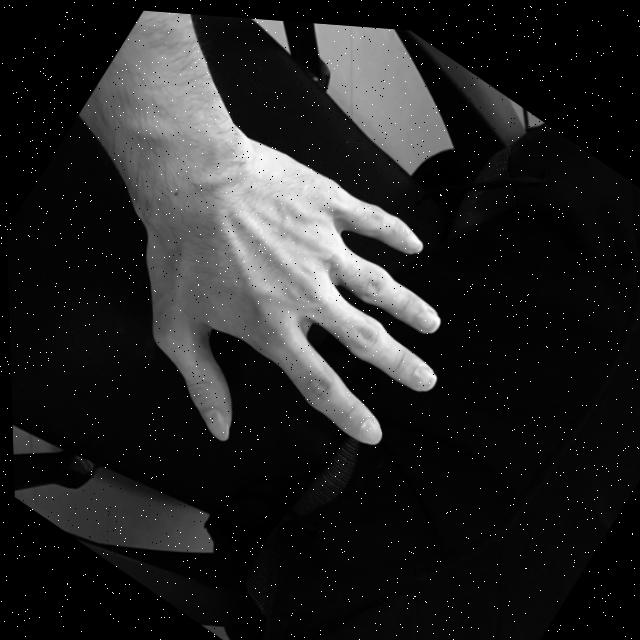hand: (82, 90, 513, 539)
